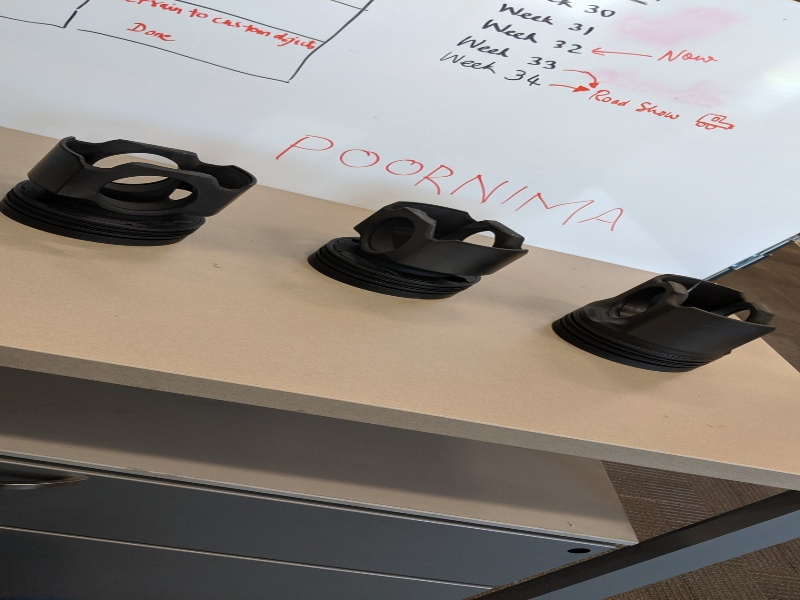piston: (3, 122, 261, 251), (549, 253, 781, 381), (308, 193, 532, 309)
